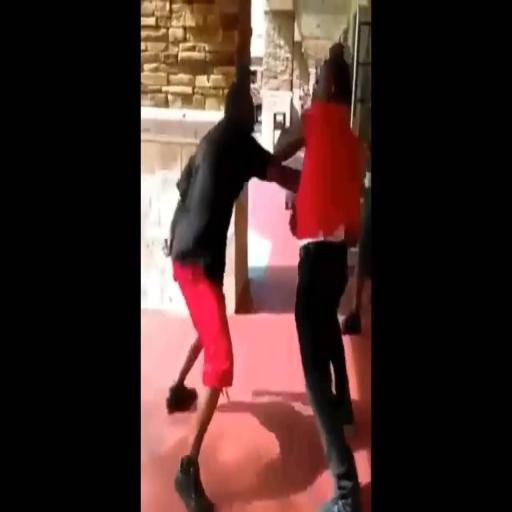violencia: (161, 37, 372, 512)
